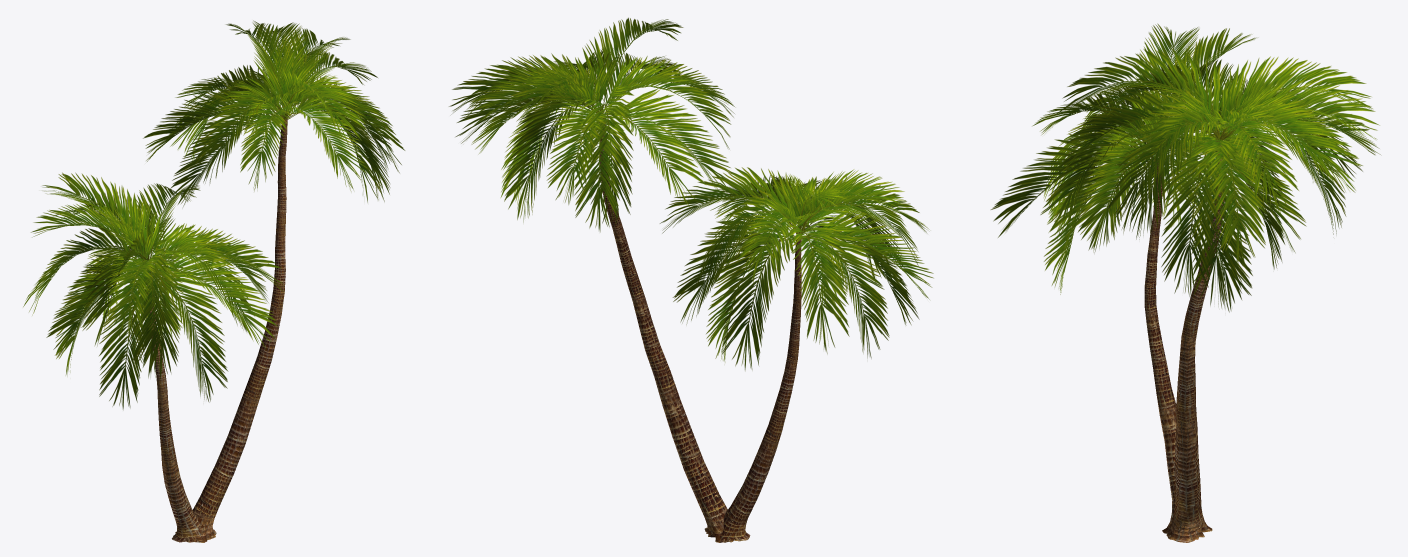
3 views of the same model, side by side, from view 1: azimuth 30°, elevation 25°; view 2: azimuth 150°, elevation 25°; view 3: azimuth 270°, elevation 25° (orthographic). The views are drawn at different scales.
Parts seen in each view (by area): view 1: palm01, palm02; view 2: palm01, palm02; view 3: palm01, palm02.
Boxes of the visible parts, box(x1,y1,x2,y2) form: palm01: box(23, 20, 405, 409); palm02: box(147, 119, 287, 542); palm01: box(449, 17, 933, 370); palm02: box(599, 118, 801, 542); palm01: box(990, 23, 1380, 312); palm02: box(1144, 141, 1224, 542).
Size of the model in its own units: 4.33 by 4.68 by 3.3.
Materials: 2 (2 with a texture image).
